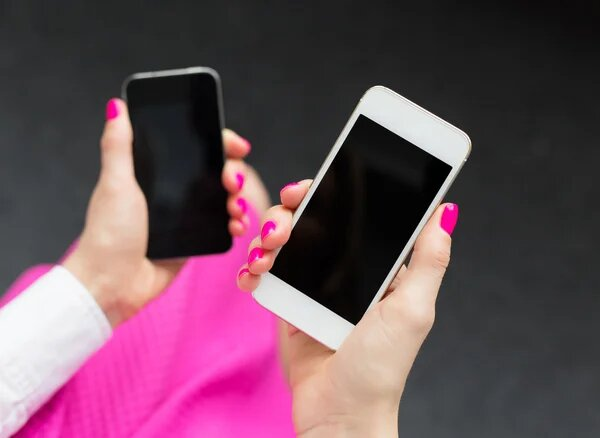phones: (249, 79, 478, 361), (119, 63, 239, 268)
